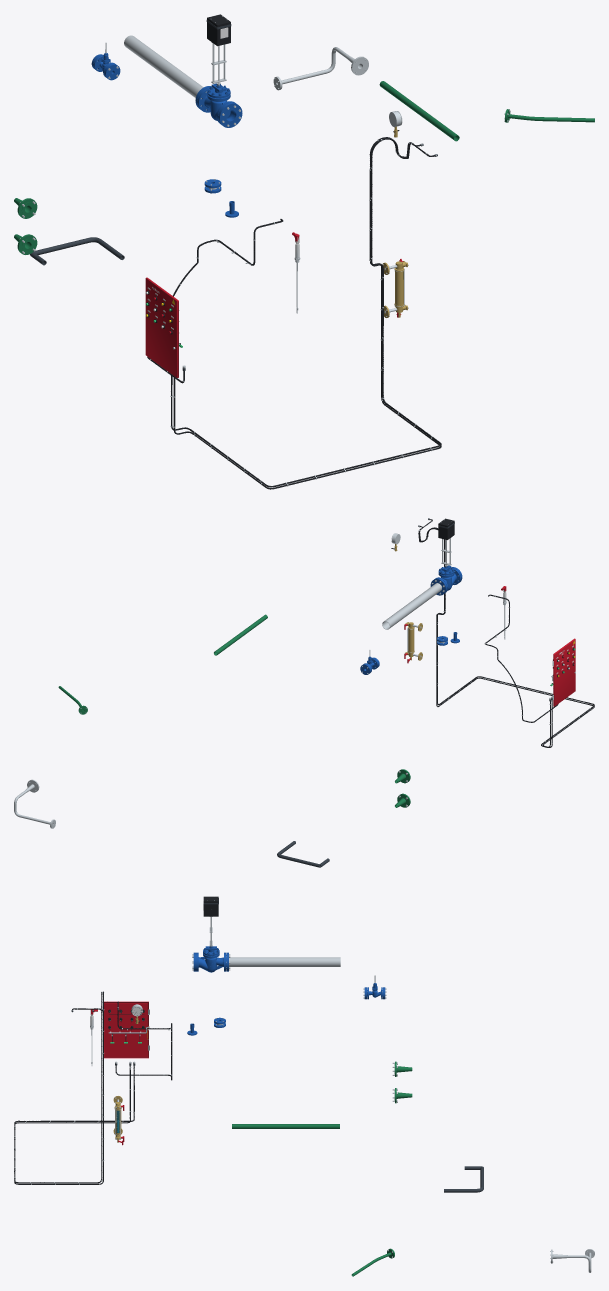
Rendered from s4000-5-BuGO2pHl.glb.
The picture shows the model from 3 angles, top to bottom: view 1: azimuth 30°, elevation 25°; view 2: azimuth 150°, elevation 25°; view 3: azimuth 270°, elevation 25°; orthographic projection. The views are drawn at different scales.
Parts seen in each view (by area): view 1: cabinet_door / cabinet_door_5.npz, wiring_pressure_switch_2 / black, wiring_pressure_switch_1 / black, steam_delivery / steel, gpz CAD solid 0, fv_to_trap_gap / steel, sight_glasses_1 / sight_glasses_1_0.npz, eco_inlet_adapter / green, pump_delivery / green; view 2: cabinet_door / cabinet_door_5.npz, wiring_pressure_switch_1 / black, steam_delivery / steel, wiring_pressure_switch_2 / black; view 3: cabinet_door / cabinet_door_5.npz, steam_delivery / steel, wiring_pressure_switch_2 / black, wiring_pressure_switch_1 / black, gpz CAD solid 0, pump_delivery / green.
Part boxes in pixels (<box>): cabinet_door / cabinet_door_5.npz: <box>145,277,179,377</box>; wiring_pressure_switch_2 / black: <box>171,138,441,487</box>; wiring_pressure_switch_1 / black: <box>173,137,441,489</box>; steam_delivery / steel: <box>124,35,203,97</box>; gpz CAD solid 0: <box>197,83,235,123</box>; fv_to_trap_gap / steel: <box>273,47,368,90</box>; sight_glasses_1 / sight_glasses_1_0.npz: <box>382,259,408,317</box>; eco_inlet_adapter / green: <box>14,198,37,254</box>; pump_delivery / green: <box>379,81,459,141</box>; cabinet_door / cabinet_door_5.npz: <box>552,638,575,706</box>; wiring_pressure_switch_1 / black: <box>418,519,594,747</box>; steam_delivery / steel: <box>382,583,441,629</box>; wiring_pressure_switch_2 / black: <box>419,526,594,747</box>; cabinet_door / cabinet_door_5.npz: <box>104,1001,149,1058</box>; steam_delivery / steel: <box>229,957,340,966</box>; wiring_pressure_switch_2 / black: <box>14,992,134,1183</box>; wiring_pressure_switch_1 / black: <box>14,991,130,1184</box>; gpz CAD solid 0: <box>196,946,226,972</box>; pump_delivery / green: <box>232,1124,339,1128</box>.
Bounding box in the file's own units: 5.77 × 3.47 × 6.74.
